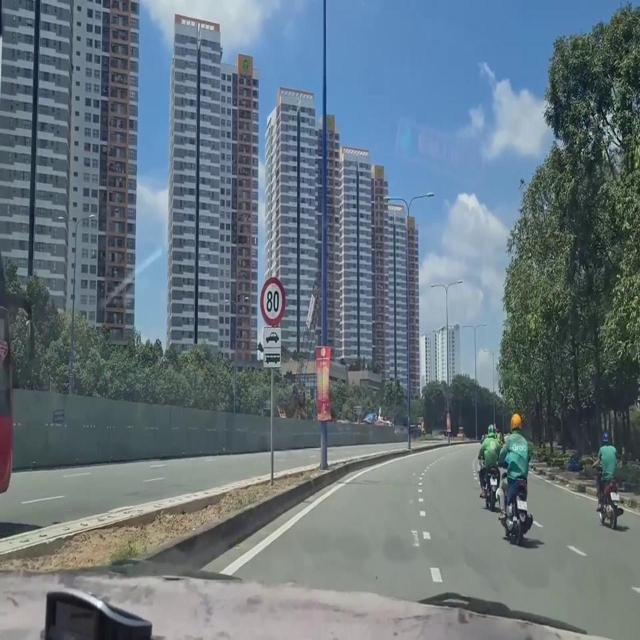Biển phụ: (259, 324, 282, 368)
Giới hạn tốc độ 80Km/h: (257, 268, 288, 327)
